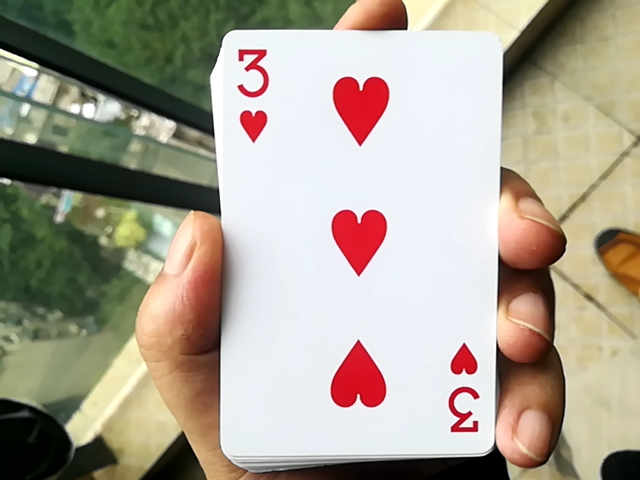hx 3: (208, 13, 501, 457)
